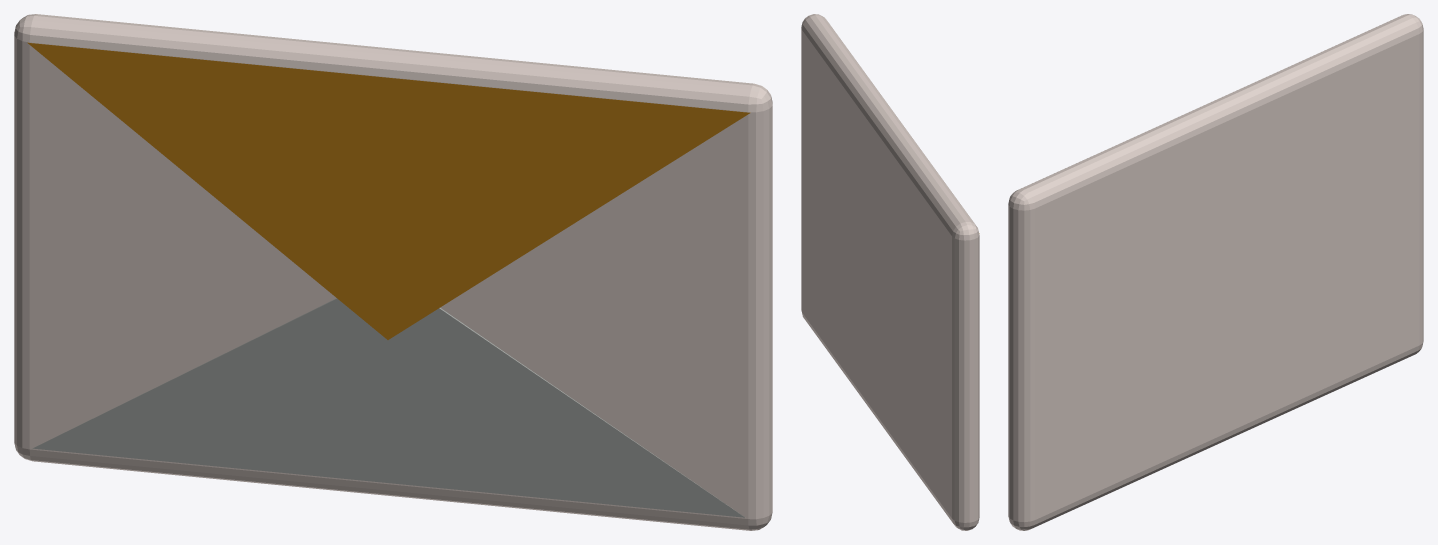
Rendered from emailIcon.glb.
3 views of the same model, side by side, from view 1: azimuth 30°, elevation 25°; view 2: azimuth 150°, elevation 25°; view 3: azimuth 270°, elevation 25° (orthographic). The views are drawn at different scales.
Parts seen in each view (by area): view 1: Cube.273, Cube.275, Cube.276; view 2: Cube.273; view 3: Cube.273.
Boxes of the visible parts, x1,y1,x2,y2 form: Cube.273: (14, 14, 772, 530); Cube.275: (27, 42, 750, 339); Cube.276: (32, 298, 744, 517); Cube.273: (801, 14, 979, 530); Cube.273: (1008, 14, 1423, 530).
Bounding box in the file's own units: 1.06 × 0.8905 × 0.9868.
